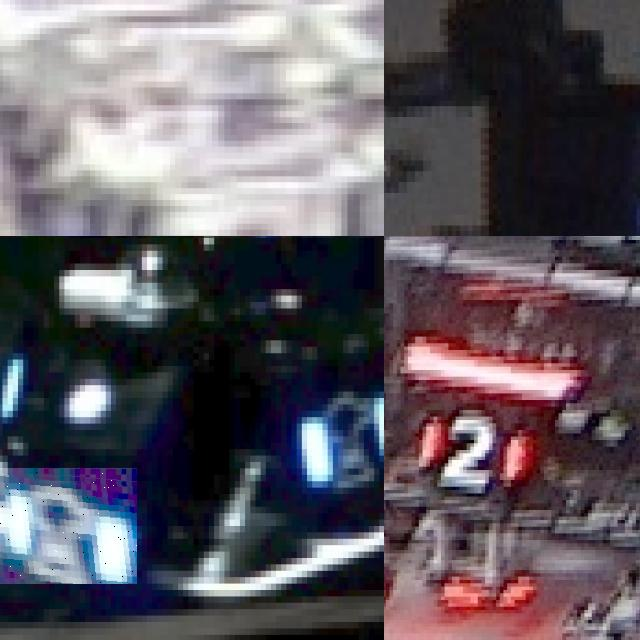Bs: (0, 468, 136, 583), (302, 404, 384, 487)
R2: (413, 404, 531, 494)
